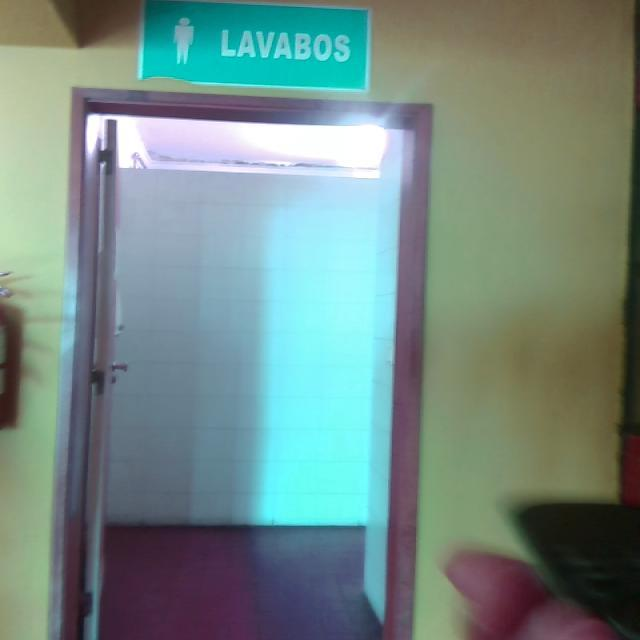door: (45, 77, 445, 640)
